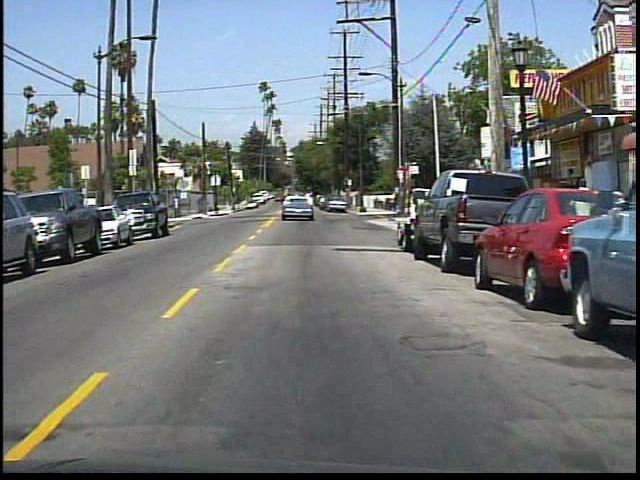person: (570, 174, 598, 244)
